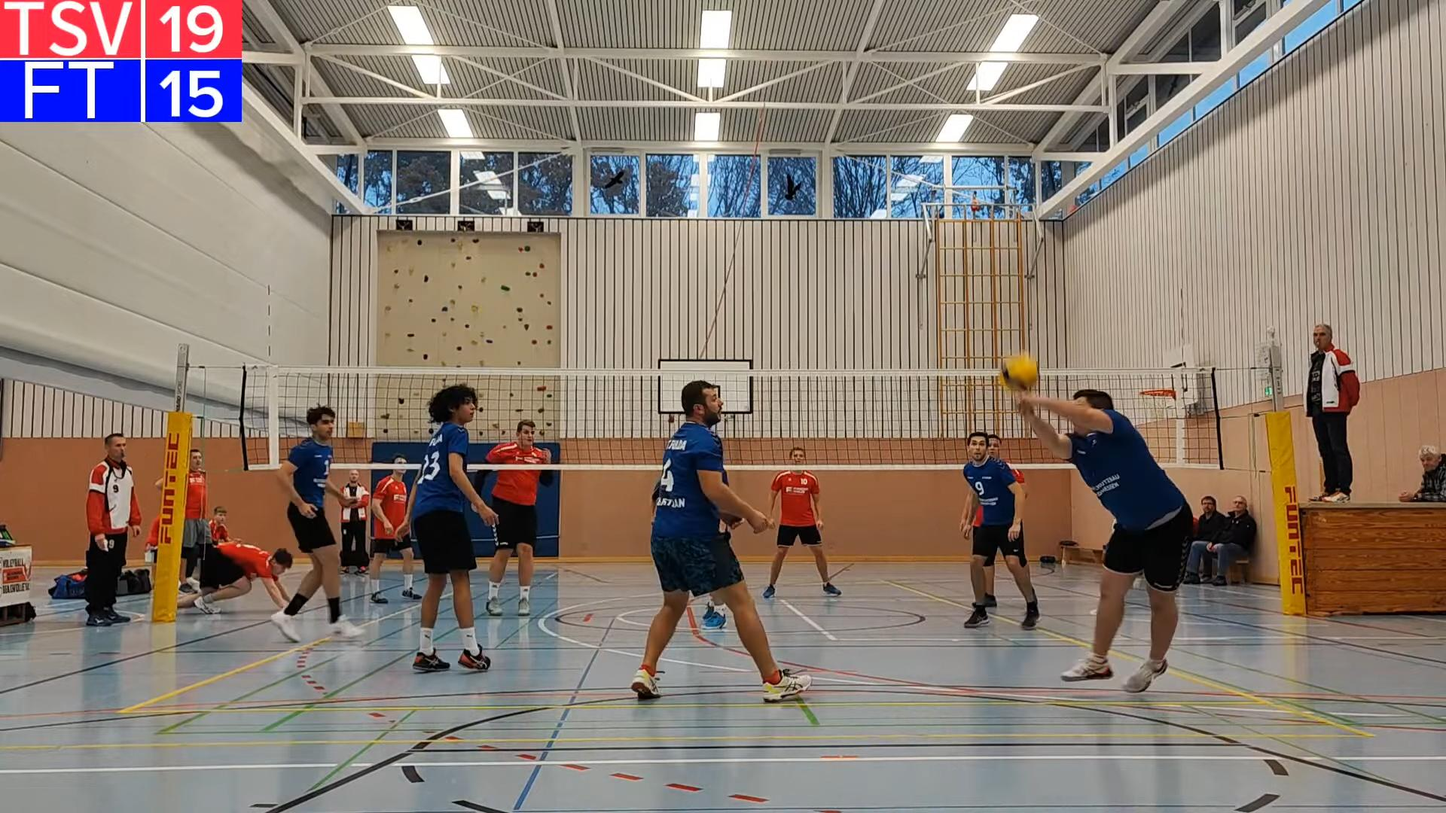ricezione: (1011, 395, 1197, 700)
